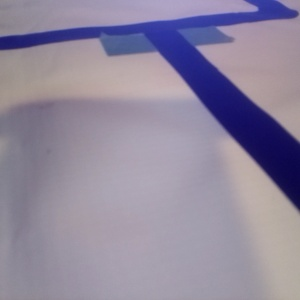bottom_right: (132, 68, 250, 124)
